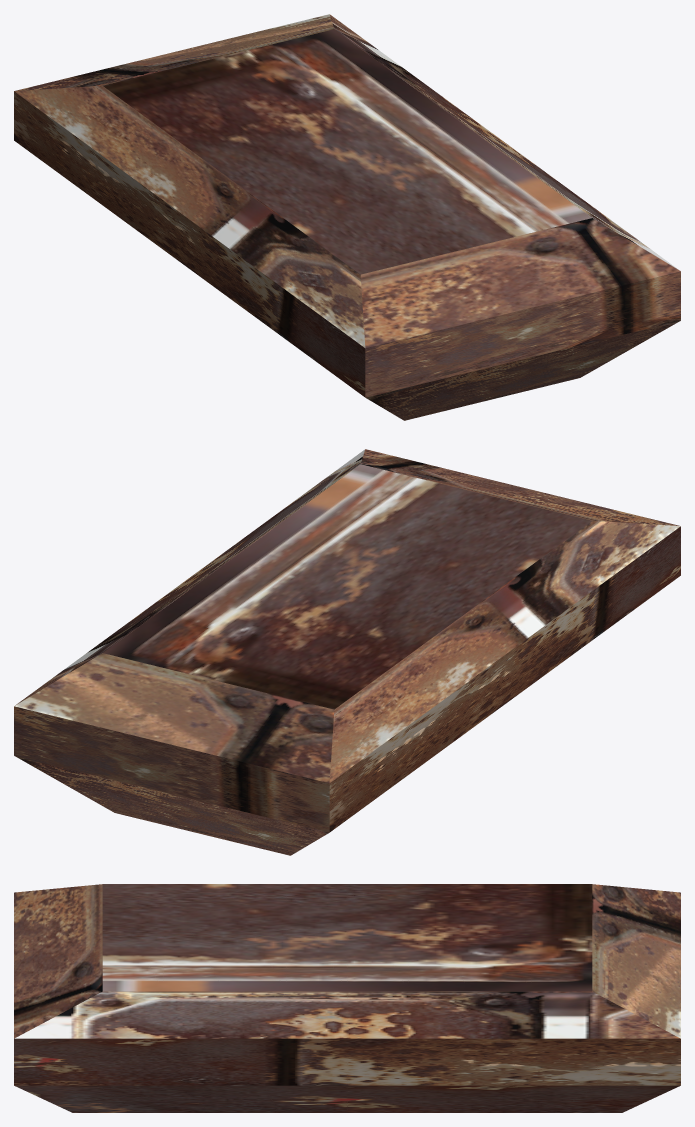
Rendered from light.fbx.
The picture shows the model from 3 angles, top to bottom: view 1: azimuth 30°, elevation 25°; view 2: azimuth 150°, elevation 25°; view 3: azimuth 270°, elevation 25°; orthographic projection. The views are drawn at different scales.
Visible parts, largest first — view 1: ceiling light; view 2: ceiling light; view 3: ceiling light.
Boxes of the visible parts, box(x1,y1,x2,y2) form: ceiling light: box(14, 14, 680, 420); ceiling light: box(14, 449, 680, 855); ceiling light: box(14, 884, 680, 1112).
Size of the model in its own units: 104 by 44.42 by 200.
